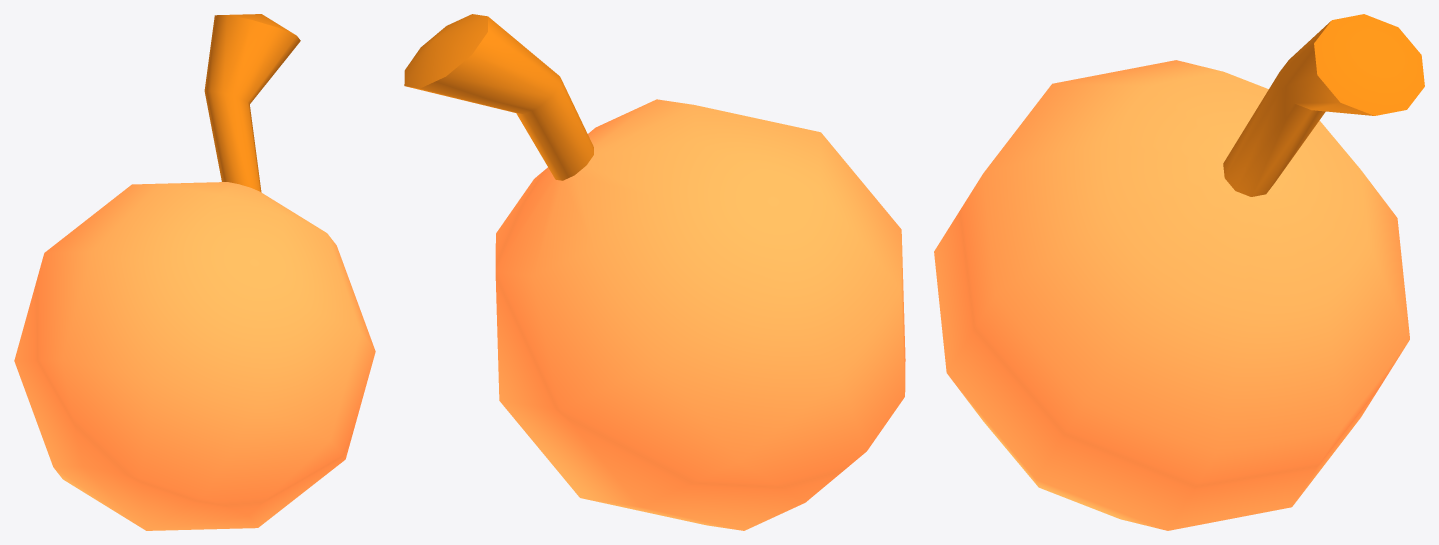
The model's file is Orange.fbx.
3 views of the same model, side by side, from view 1: azimuth 30°, elevation 25°; view 2: azimuth 150°, elevation 25°; view 3: azimuth 270°, elevation 25° (orthographic). The views are drawn at different scales.
Visible parts, largest first — view 1: Sphere_2; view 2: Sphere_2; view 3: Sphere_2.
Part boxes in pixels (x1,y1,x2,y2): Sphere_2: [14, 14, 375, 530]; Sphere_2: [404, 14, 905, 530]; Sphere_2: [934, 14, 1424, 530].
Size of the model in its own units: 94.58 by 121 by 94.7.
